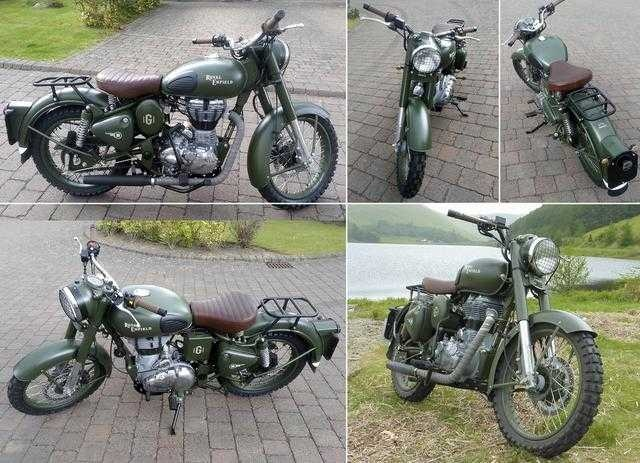motorbike: (2, 9, 339, 203), (6, 237, 340, 416), (385, 211, 604, 458), (507, 1, 640, 198), (361, 2, 480, 199)
